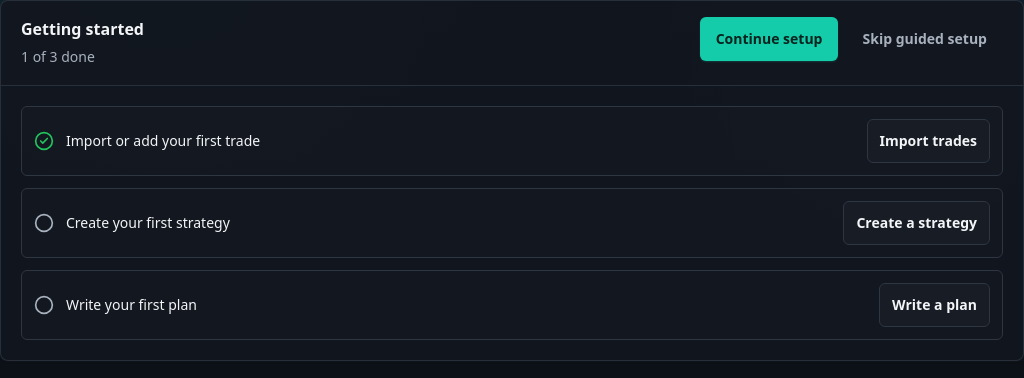
Test: SetupChecklist for someone who has not finished the first run › turns the card into the steps that are left, without the setup line, when it is dismissed
This screenshot has width=1024, height=378.
Expected: the heading "Getting started" is shown, [21,17,144,41]
Click the button "Skip guided setup".
click(925, 39)  # box [846,17,1003,61]
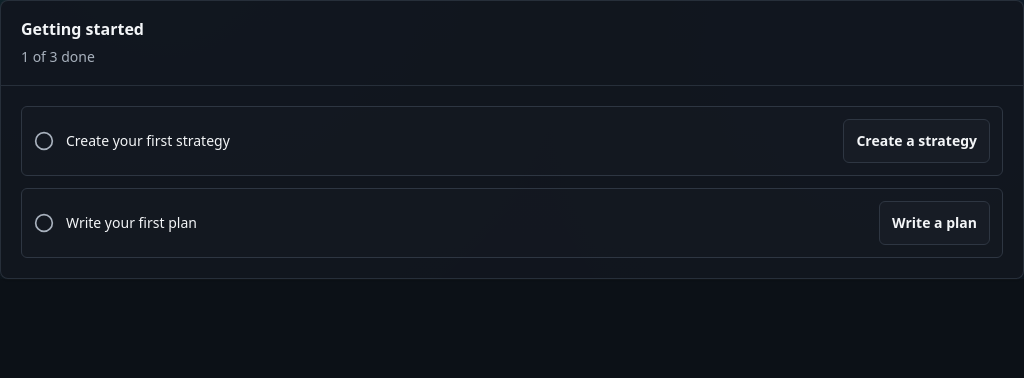
Expected: the link "Continue setup" is gone
Expected: the text "Import or add your first trade" is gone
Expected: the button "Skip guided setup" is gone
